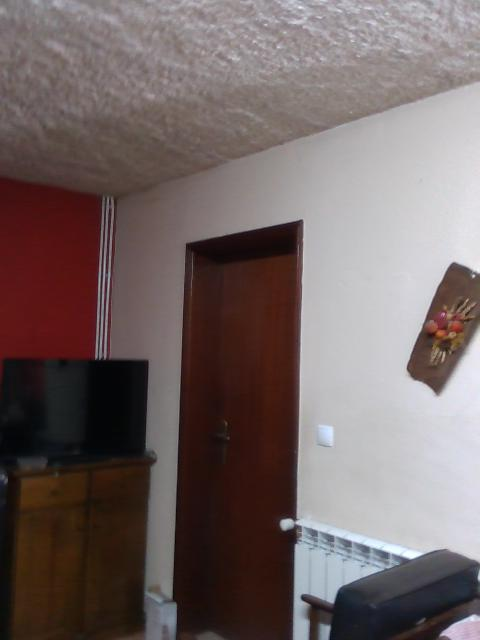door: (191, 250, 290, 640)
